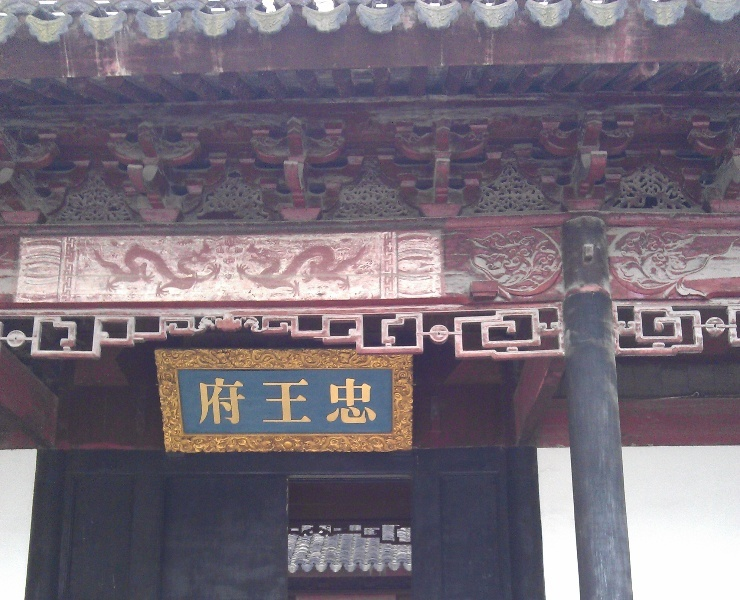text: (193, 377, 208, 426), (209, 377, 224, 426), (225, 377, 240, 426), (241, 377, 256, 426), (257, 377, 272, 426), (273, 377, 288, 426), (289, 377, 304, 426), (305, 377, 320, 426), (321, 377, 336, 426), (337, 377, 352, 426), (353, 377, 368, 426), (369, 377, 378, 426)
